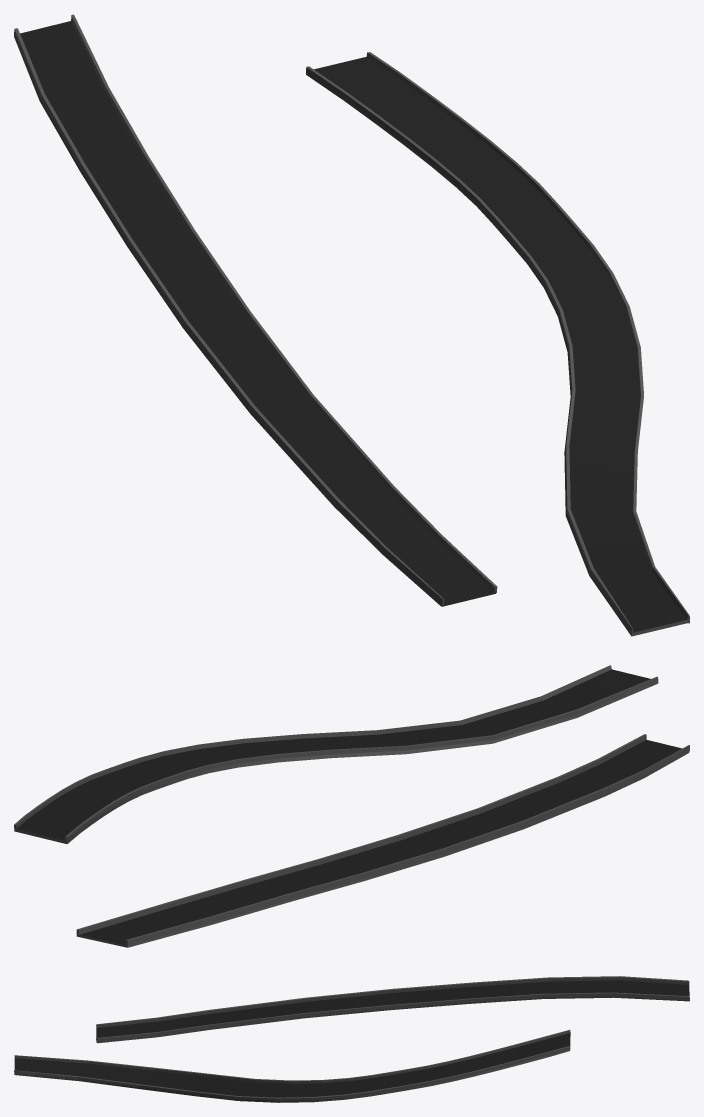
File: highwayOnStraight.FBX
The picture shows the model from 3 angles, top to bottom: view 1: azimuth 30°, elevation 25°; view 2: azimuth 150°, elevation 25°; view 3: azimuth 270°, elevation 25°; orthographic projection. The views are drawn at different scales.
Visible parts, largest first — view 1: Line001, Line002; view 2: Line002, Line001; view 3: Line002, Line001.
Boxes of the visible parts, <box> form: Line001: <box>306,52,689,636</box>; Line002: <box>14,14,497,606</box>; Line002: <box>76,734,689,947</box>; Line001: <box>14,665,658,843</box>; Line002: <box>96,976,689,1043</box>; Line001: <box>14,1030,570,1102</box>.
Size of the model in its own units: 31973 by 11207 by 84744.
